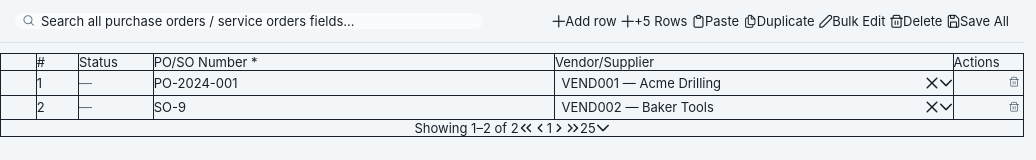
Test: ExcelGrid advanced search › matches vendor labels, not only stored ids, and ANDs multiple tokens
Type "acme" into the field with test id "grid-search" at (249, 21), box [15, 13, 483, 29]
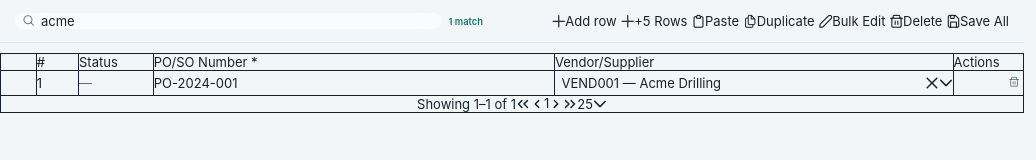
Check: the text "SO-9" is not shown
Replace the text in the field with test id "grid-search" with "acme baker" at (228, 21), box [15, 13, 442, 29]
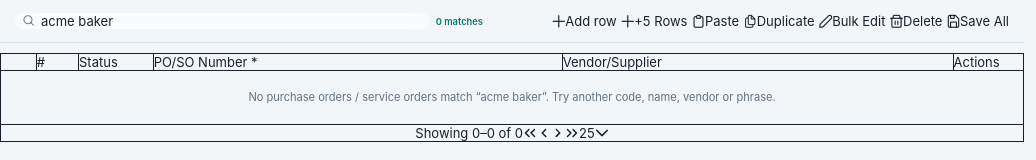
Check: the text "No purchase orders / service orders match" is shown, box [248, 90, 776, 104]
